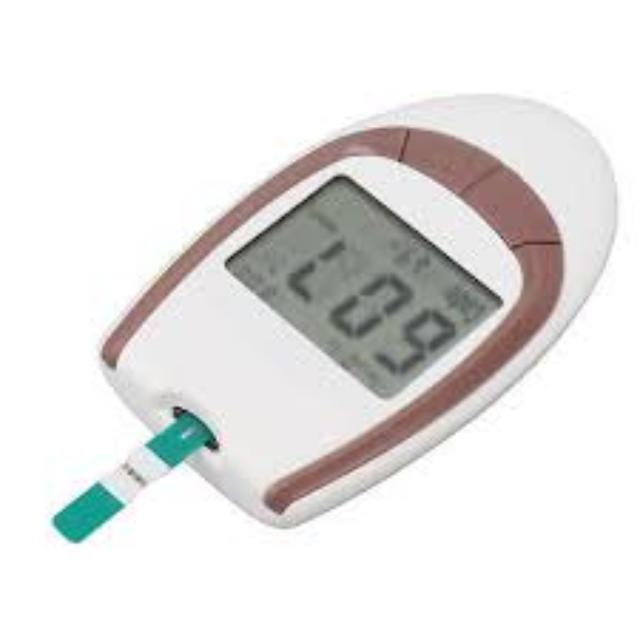Glucose-Meter: (54, 95, 616, 542)
